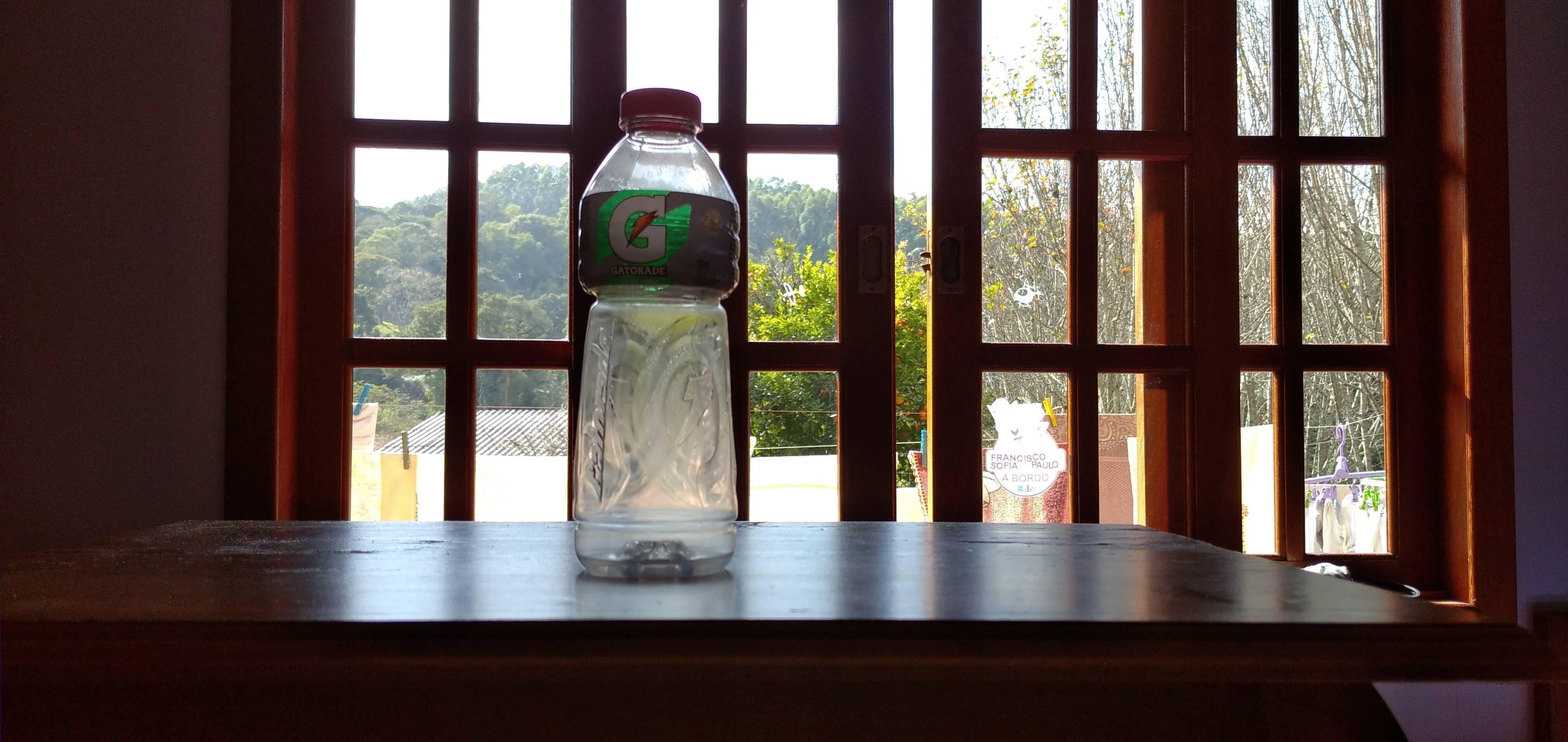bottle-plastic: (574, 84, 744, 589)
